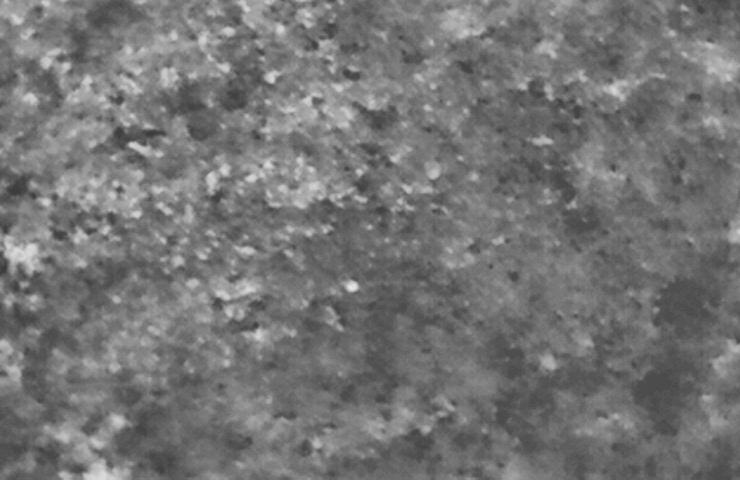landmines: (342, 277, 366, 300)
